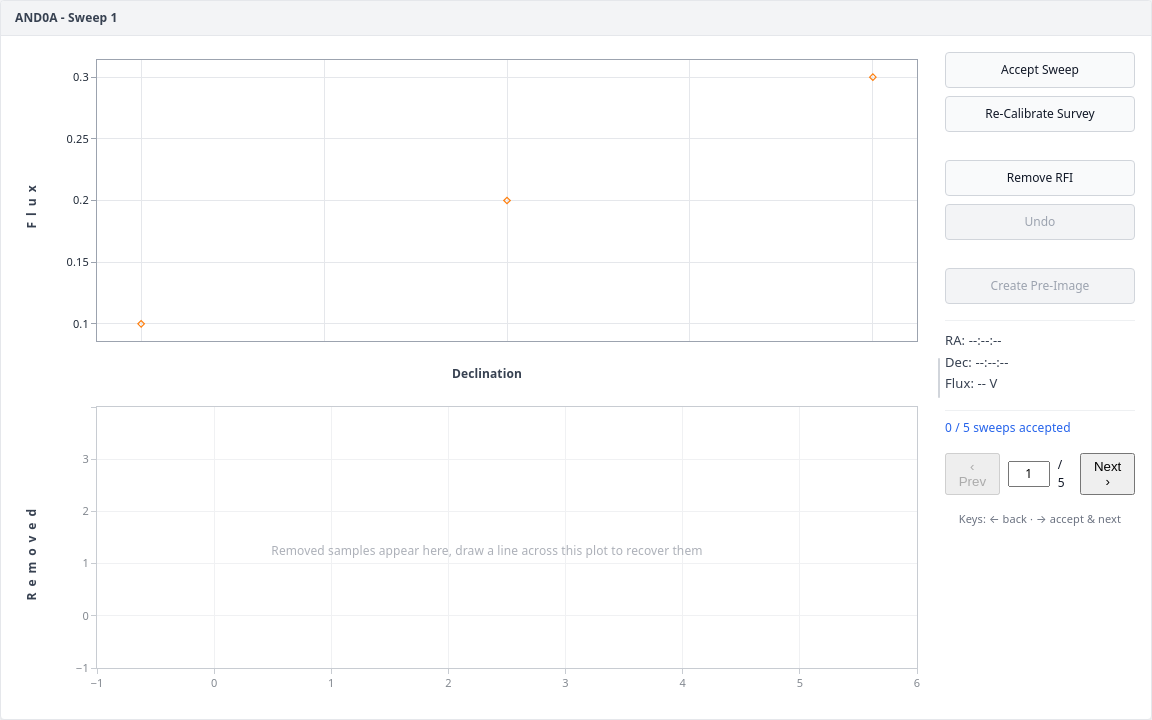
it: Remove RFI toggles the per-sweep RFI draw mode (FEAT-004)
Step 1. Click the button "Remove RFI" → (1040, 178), box x1=945 y1=160 x2=1135 y2=196
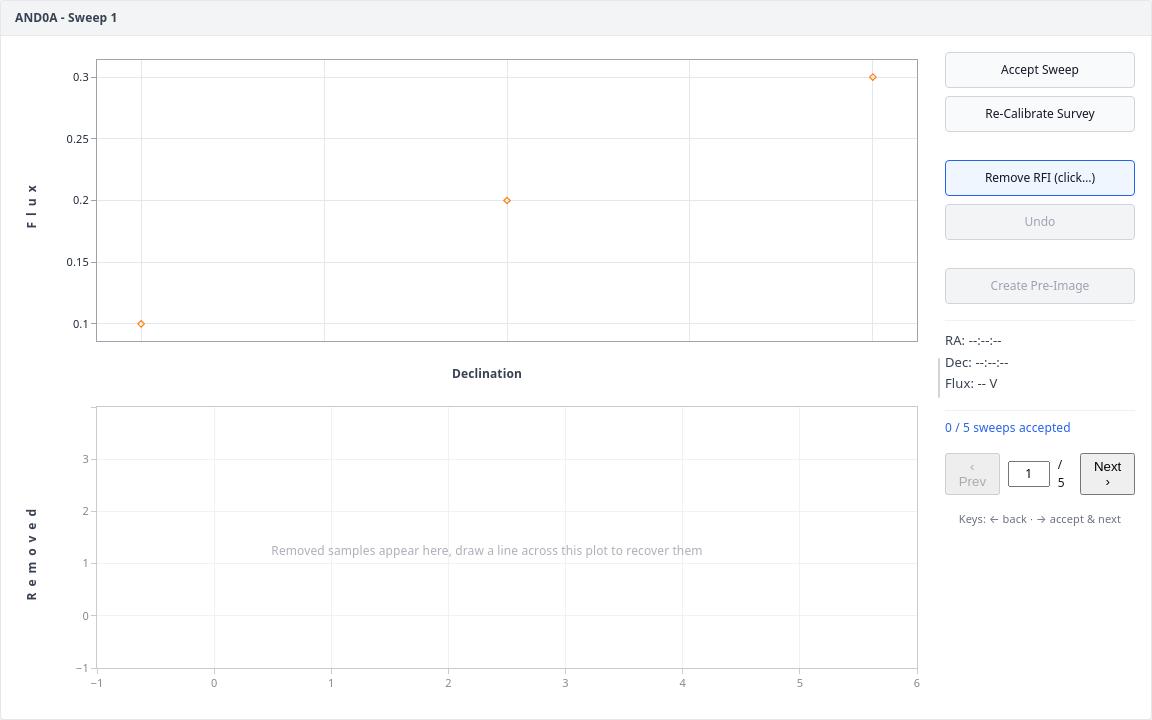
Expected: the button "Remove RFI (click…)" is shown, x1=945 y1=160 x2=1135 y2=196
